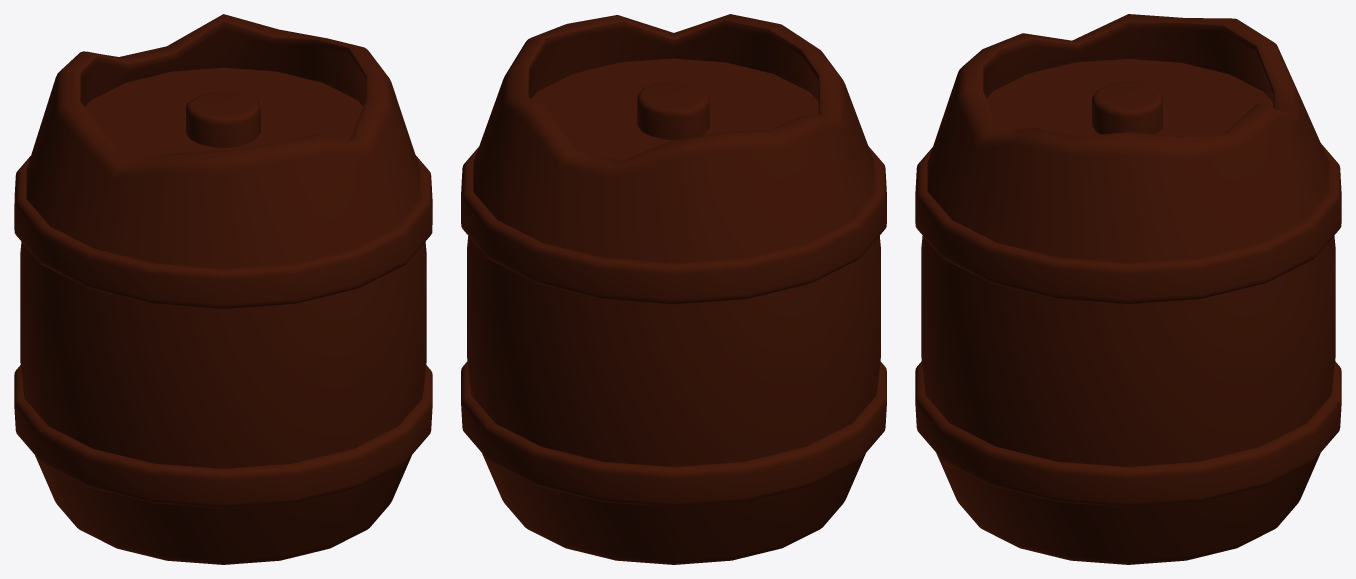
Rendered from Barrel_low.fbx.
The picture shows the model from 3 angles, left to right: view 1: azimuth 30°, elevation 25°; view 2: azimuth 150°, elevation 25°; view 3: azimuth 270°, elevation 25°; orthographic projection.
Visible parts, largest first — view 1: Barrel; view 2: Barrel; view 3: Barrel.
Part boxes in pixels (x1,y1,x2,y2): Barrel: [14, 14, 432, 564]; Barrel: [461, 14, 886, 564]; Barrel: [915, 14, 1341, 564].
Bounding box in the file's own units: 20.29 × 22.1 × 19.98.
